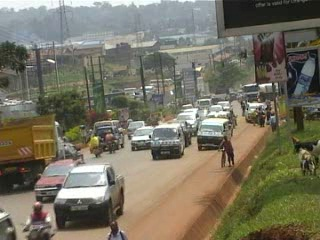Car: (33, 154, 81, 204), (125, 126, 155, 152), (169, 110, 201, 134), (123, 118, 148, 139), (205, 104, 225, 120), (216, 98, 235, 112)
Motorcycle: (17, 201, 59, 239), (100, 127, 120, 154), (86, 129, 105, 157), (228, 108, 241, 127)
